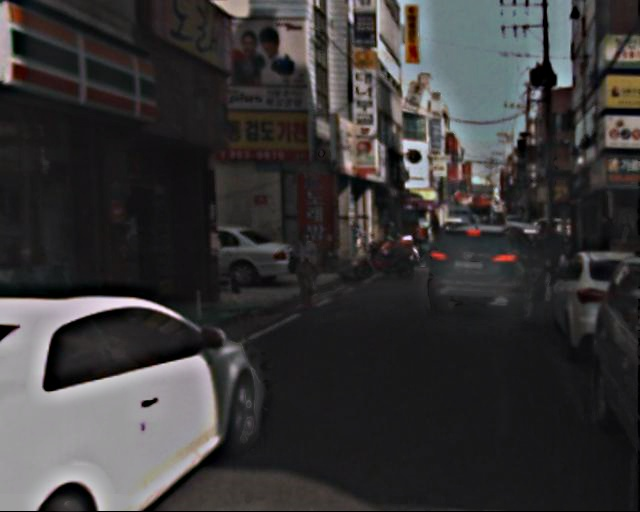person: (293, 228, 327, 312), (542, 223, 570, 291)
